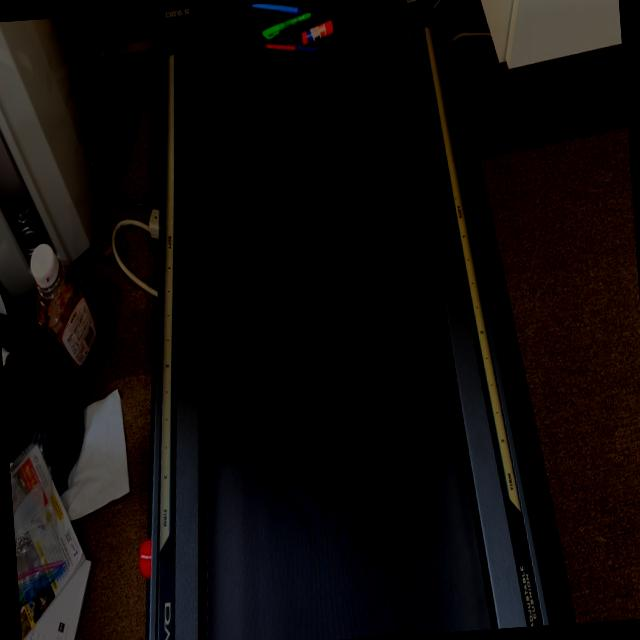Trash: (262, 36, 319, 60), (259, 12, 313, 36), (298, 16, 336, 48), (247, 0, 300, 16)
